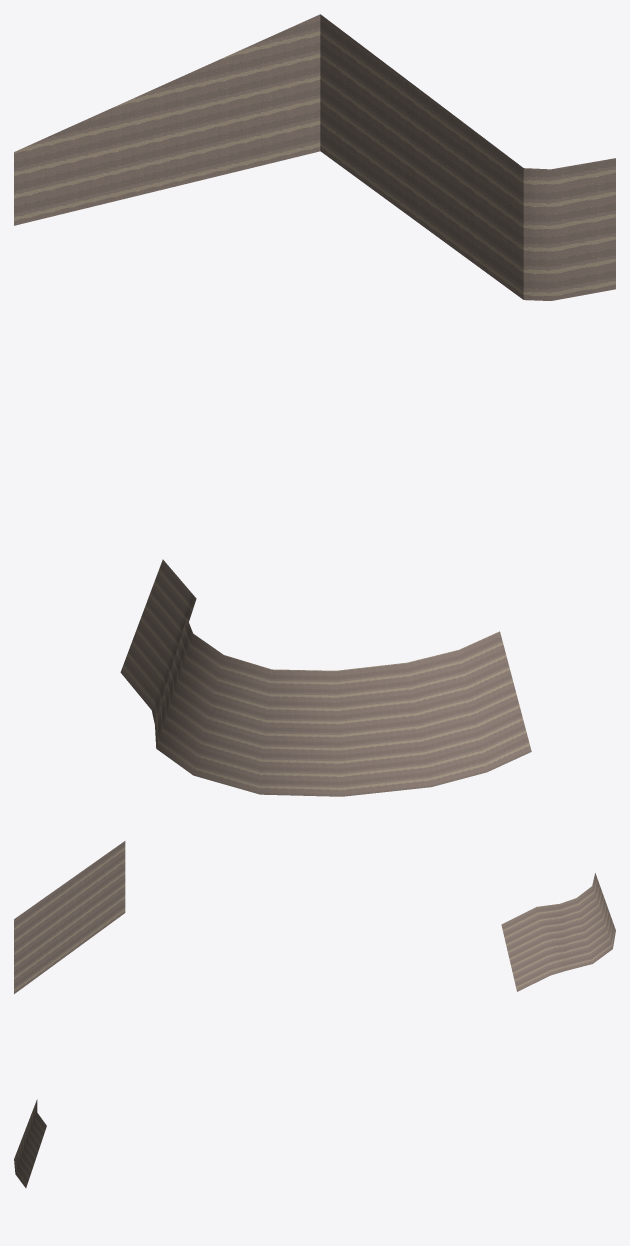
Rendered from kd_connection_world-inner_surface_10_4.glb.
3 renders of one model, top to bottom at view 1: azimuth 30°, elevation 25°; view 2: azimuth 150°, elevation 25°; view 3: azimuth 270°, elevation 25°, orthographic. The views are drawn at different scales.
Parts seen in each view (by area): view 1: kd_connection_world-inner_surface_10_4; view 2: kd_connection_world-inner_surface_10_4; view 3: kd_connection_world-inner_surface_10_4.
Part boxes in pixels (bbox=[...]): kd_connection_world-inner_surface_10_4: bbox=[14, 14, 615, 796]; kd_connection_world-inner_surface_10_4: bbox=[14, 841, 615, 993]; kd_connection_world-inner_surface_10_4: bbox=[14, 1099, 46, 1187].
Bounding box in the file's own units: 71.13 × 25.5 × 98.94.
Materials: 1 (1 with a texture image).
